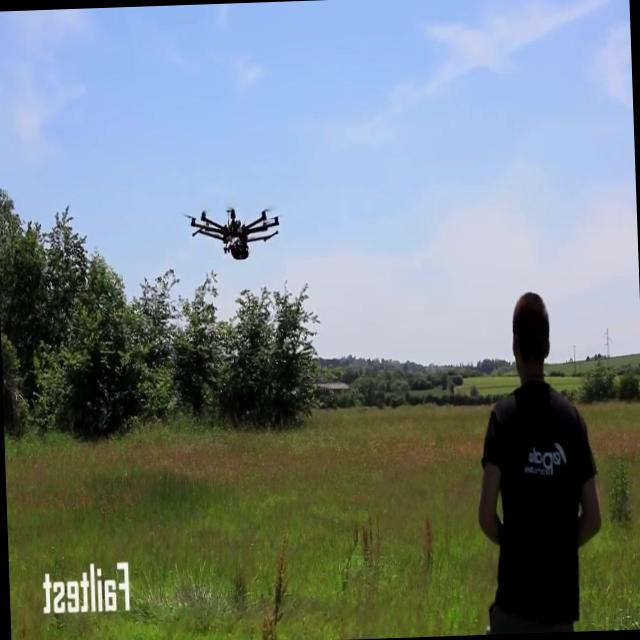drone: (184, 198, 284, 265)
